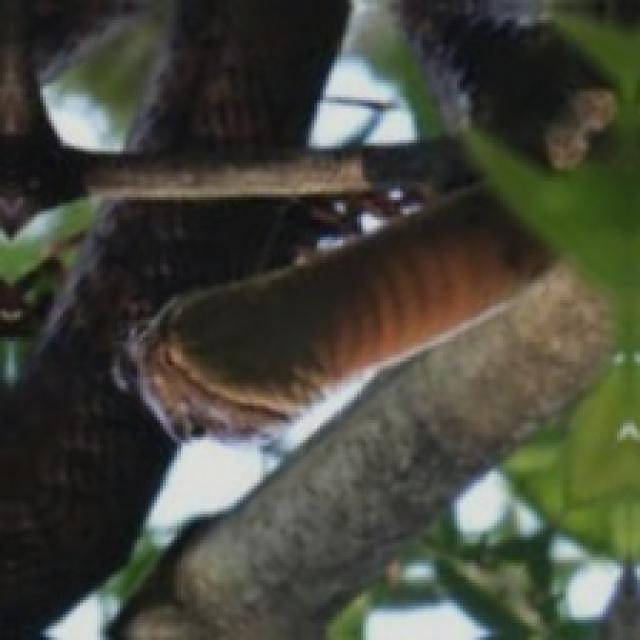king cobra: (129, 189, 551, 437)
